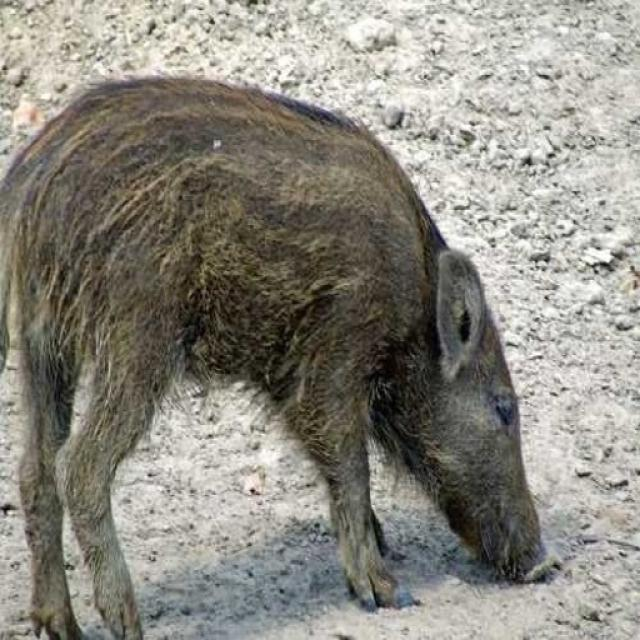pig: (0, 46, 536, 640)
